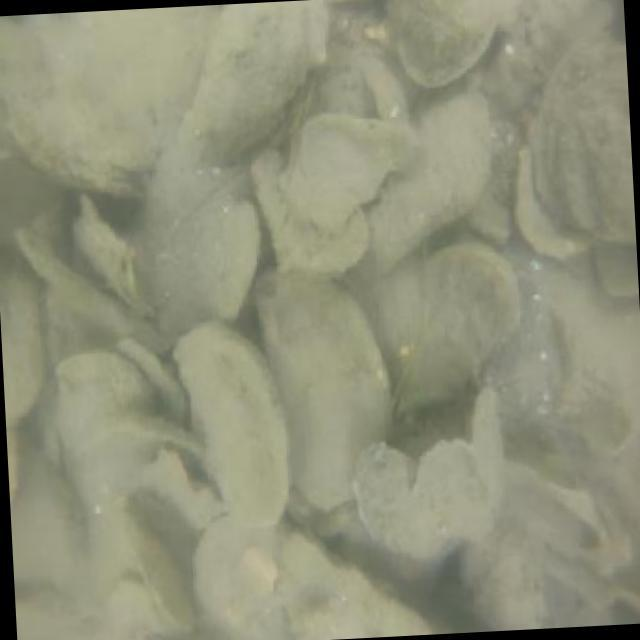Oyster- Indeterminate: (313, 69, 534, 285), (336, 223, 554, 426), (32, 339, 195, 597), (255, 262, 394, 523), (527, 29, 635, 246), (252, 530, 447, 640), (330, 425, 456, 580), (106, 502, 209, 640), (0, 250, 53, 430)
Oyster-Closed: (154, 307, 316, 544)
Oyster-Open: (386, 0, 492, 96)
